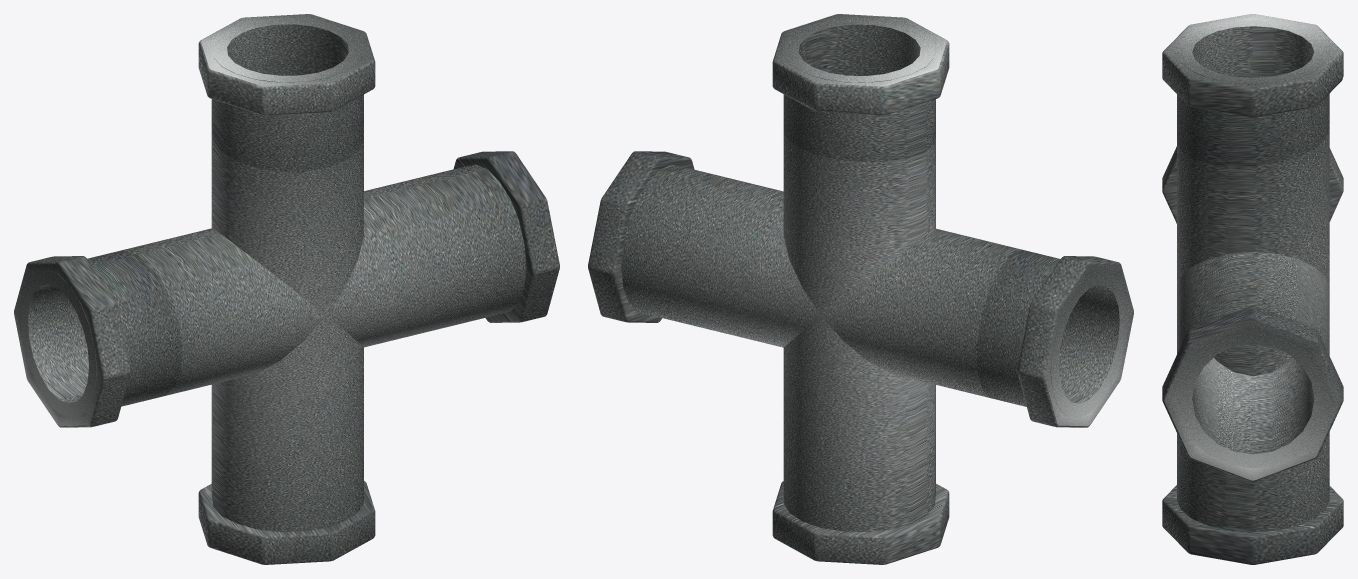
Rendered from 十字パイプ.fbx.
3 renders of one model, left to right at view 1: azimuth 30°, elevation 25°; view 2: azimuth 150°, elevation 25°; view 3: azimuth 270°, elevation 25°, orthographic.
Visible parts, largest first — view 1: パイプ2, パイプ3; view 2: パイプ2, パイプ3; view 3: パイプ2, パイプ3.
Boxes of the visible parts, x1,y1,x2,y2 form: パイプ2: (198,14,375,564); パイプ3: (14,151,559,427); パイプ2: (772,14,949,564); パイプ3: (588,151,1133,427); パイプ2: (1162,14,1343,564); パイプ3: (1162,146,1343,481).
Size of the model in its own units: 906 by 906 by 313.
1 material, 1 textured.
